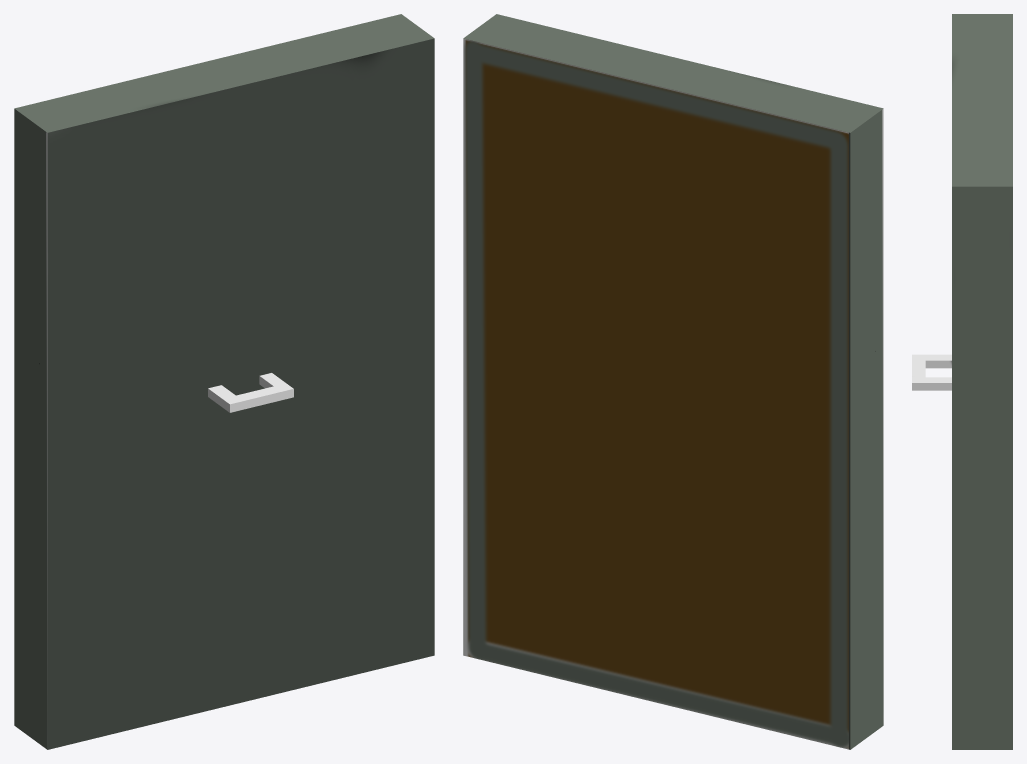
The model's file is SHIELD.glb.
The picture shows the model from 3 angles, left to right: view 1: azimuth 30°, elevation 25°; view 2: azimuth 150°, elevation 25°; view 3: azimuth 270°, elevation 25°; orthographic projection. The views are drawn at different scales.
Visible parts, largest first — view 1: Cube.001; view 2: Cube.001; view 3: Cube.001.
Part boxes in pixels (box(x1,y1,x2,y2)): Cube.001: box(14, 14, 434, 749); Cube.001: box(463, 14, 883, 749); Cube.001: box(912, 14, 1012, 749).
Bounding box in the file's own units: 1.46 × 2.22 × 0.36.
1 material, 1 textured.
